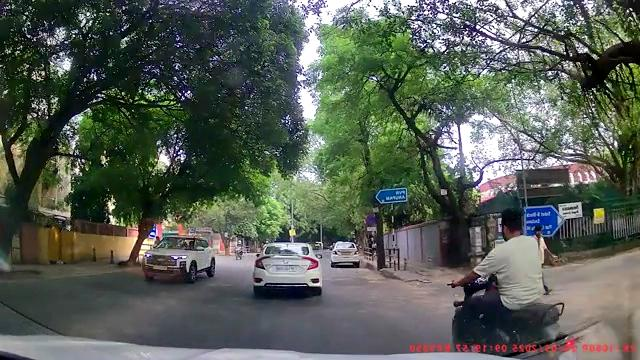motorcycle_without_helmet: (449, 207, 577, 358)
